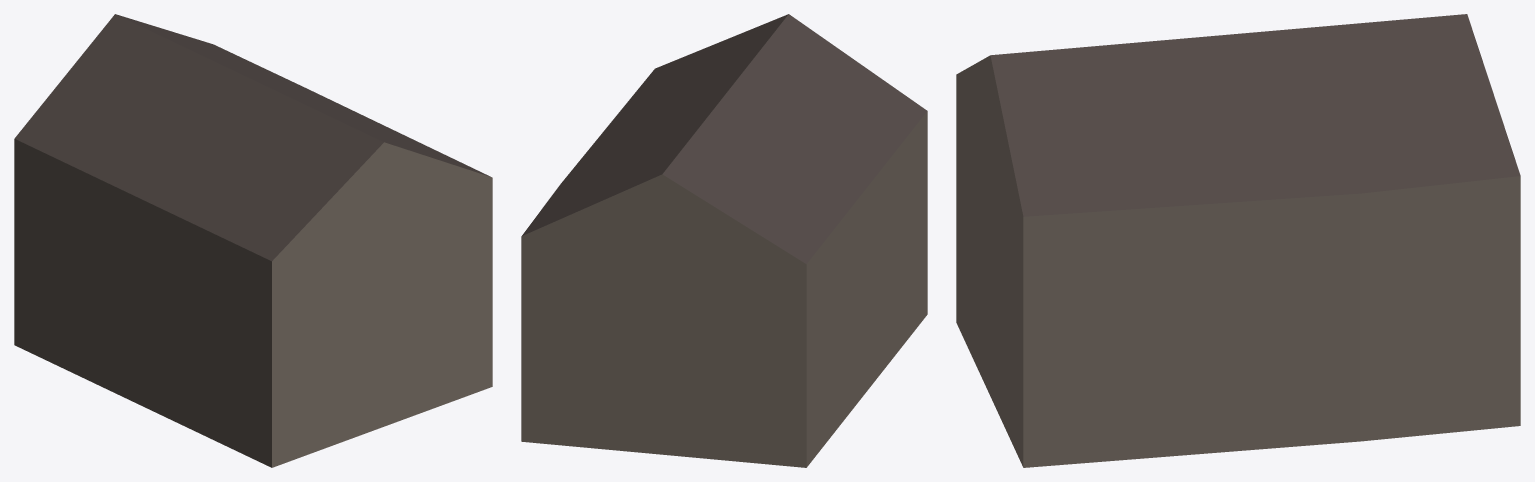
3 renders of one model, left to right at view 1: azimuth 30°, elevation 25°; view 2: azimuth 150°, elevation 25°; view 3: azimuth 270°, elevation 25°, orthographic. The views are drawn at different scales.
Visible parts, largest first — view 1: HP-w1198840828; view 2: HP-w1198840828; view 3: HP-w1198840828.
Boxes of the visible parts, x1,y1,x2,y2 form: HP-w1198840828: (14,14,492,467); HP-w1198840828: (521,14,927,467); HP-w1198840828: (956,14,1520,467).
Size of the model in its own units: 9.6 by 8.26 by 12.38.
